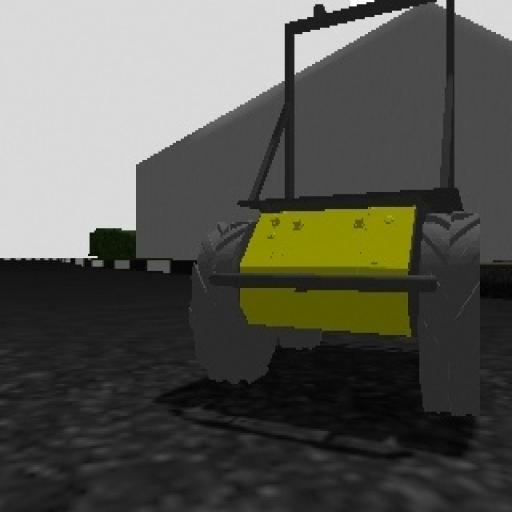huskya200: (191, 0, 499, 448)
